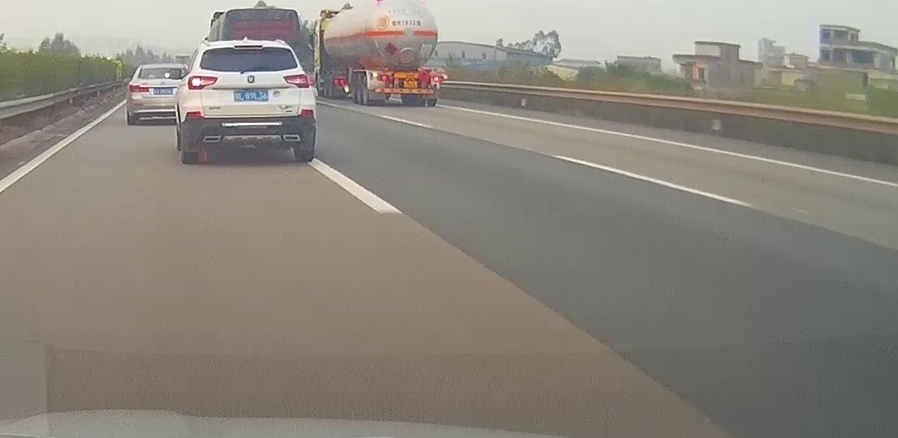L_light: (187, 76, 219, 90), (377, 75, 388, 81)
R_light: (284, 74, 310, 88), (433, 75, 444, 82)
T_light: (234, 45, 262, 47), (405, 72, 414, 74)
day-brake: (181, 39, 316, 164)
day-no: (366, 69, 448, 107)
